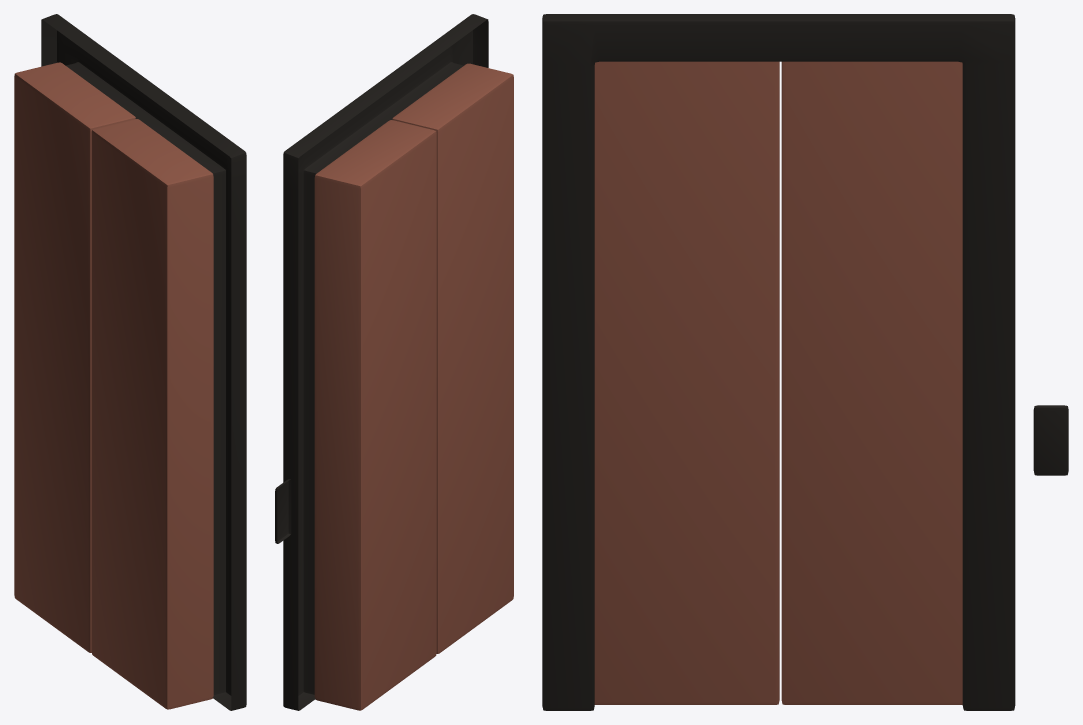
The model's file is DefaultLevel_N_Elevator.fbx.
The picture shows the model from 3 angles, left to right: view 1: azimuth 30°, elevation 25°; view 2: azimuth 150°, elevation 25°; view 3: azimuth 270°, elevation 25°; orthographic projection. The views are drawn at different scales.
Parts seen in each view (by area): view 1: DefaultLevel_N_Elevator; view 2: DefaultLevel_N_Elevator; view 3: DefaultLevel_N_Elevator.
Part boxes in pixels (box(x1,y1,x2,y2)): DefaultLevel_N_Elevator: box(14, 14, 246, 710); DefaultLevel_N_Elevator: box(275, 14, 513, 710); DefaultLevel_N_Elevator: box(542, 14, 1068, 710).
Bounding box in the file's own units: 65.17 × 568 × 391.
